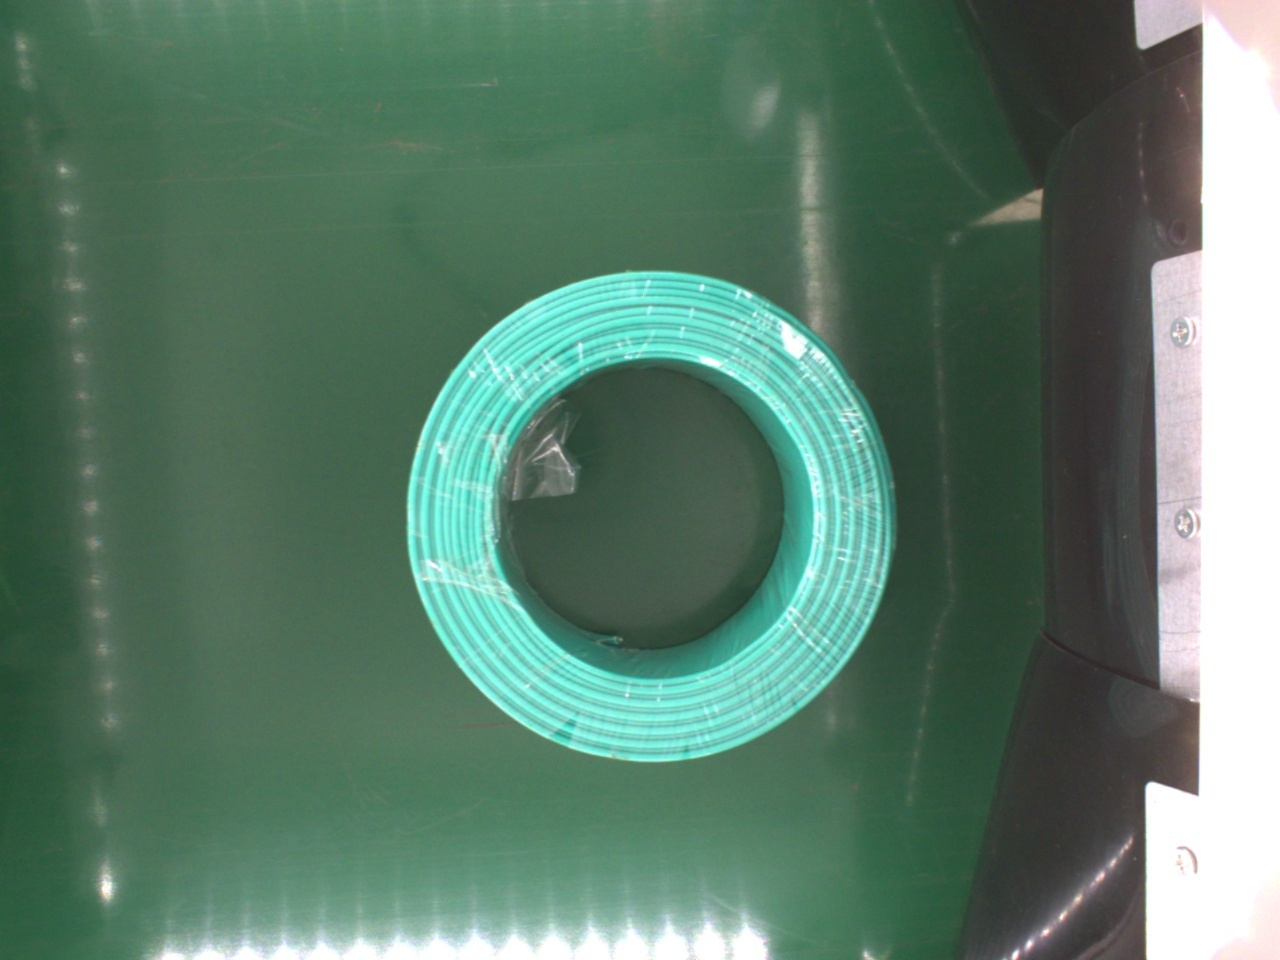green: (404, 268, 899, 768)
